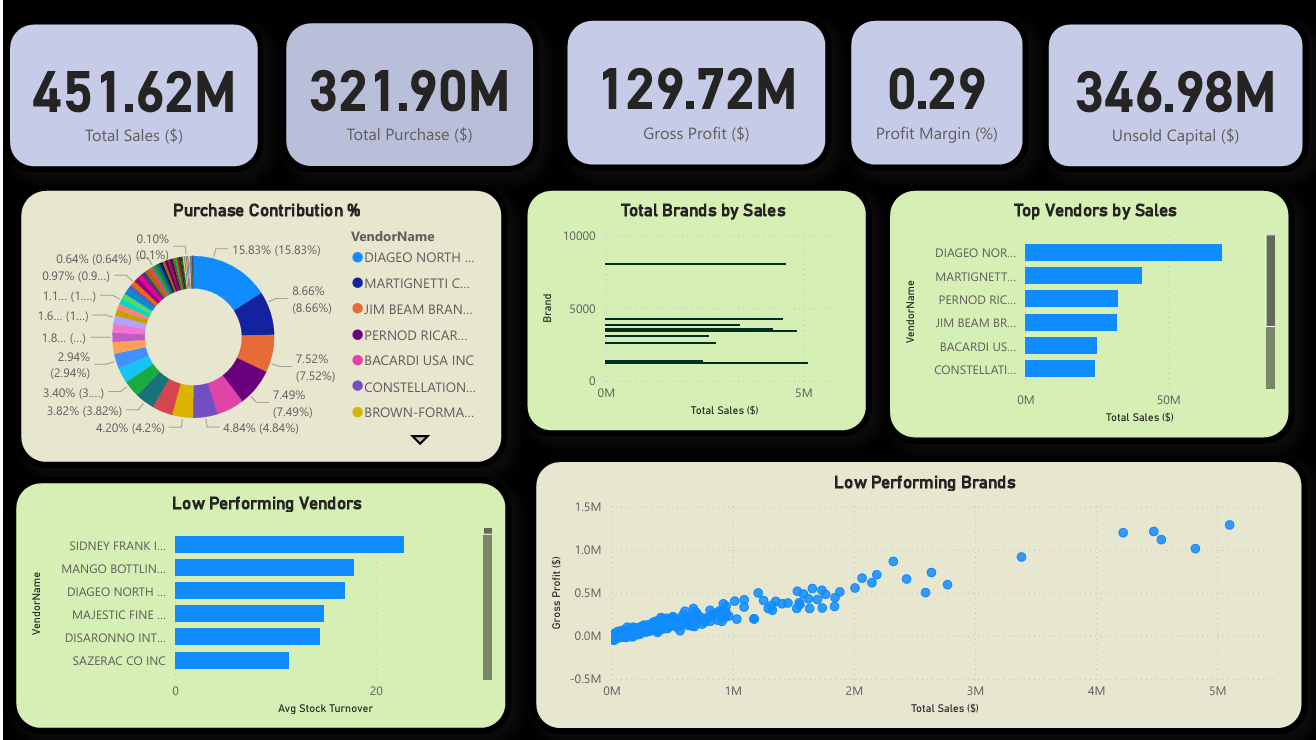

Layout of this report page (visuals, bound fields, positions):
{"tool":"powerbi","page":{"name":"Page 1","canvas":[1280,720],"ordinal":0},"visuals":[{"type":"card","fields":{"Values":["vendor_sales_summary.Gross Profit ($)"]},"box":[546.7,13.9,265,153.4],"z":0},{"type":"card","fields":{"Values":["vendor_sales_summary.Total Purchase ($)"]},"box":[270.6,15.3,253.8,152],"z":1},{"type":"card","fields":{"Values":["vendor_sales_summary.Profit Margin (%)"]},"box":[825.6,13.9,179.9,153.4],"z":2},{"type":"card","fields":{"Values":["vendor_sales_summary.Total Sales ($)"]},"box":[0,16.7,255.2,150.6],"z":3},{"type":"card","fields":{"Values":["vendor_sales_summary.Unsold Capital ($)"]},"box":[1019.5,16.7,260.8,150.6],"z":4},{"type":"donutChart","title":"Purchase Contribution %","fields":{"Category":["vendor_sales_summary.VendorName"],"Y":["vendor_sales_summary.Purchase Contribution %"]},"box":[11.2,179.9,482.5,277.5],"z":5},{"type":"clusteredBarChart","title":"Top Vendors by Sales","fields":{"Category":["vendor_sales_summary.VendorName"],"Y":["vendor_sales_summary.Total Sales ($)"]},"box":[863.3,179.9,403.1,253.8],"z":6},{"type":"clusteredBarChart","title":"Low Performing Vendors","fields":{"Category":["vendor_sales_summary.VendorName"],"Y":["vendor_sales_summary.Avg Stock Turnover"]},"box":[5.6,467.2,492.3,252.4],"z":8},{"type":"clusteredBarChart","title":"Total Brands by Sales","fields":{"Category":["vendor_sales_summary.Brand"],"Y":["vendor_sales_summary.Total Sales ($)"]},"box":[507.7,179.9,344.5,246.9],"z":9},{"type":"scatterChart","title":"Low Performing Brands","fields":{"X":["vendor_sales_summary.Total Sales ($)"],"Y":["vendor_sales_summary.Gross Profit ($)"],"Category":["vendor_sales_summary.Brand"]},"box":[516,446.3,762.9,273.4],"z":10}]}

Visuals, with their boxes in screenshot pixels (x1, y1, x2, y2), scaled from the page's 1280x720 canvas onto the 1316x740 screenshot:
card - vendor_sales_summary.Gross Profit ($): bbox(562, 14, 835, 172)
card - vendor_sales_summary.Total Purchase ($): bbox(278, 16, 539, 172)
card - vendor_sales_summary.Profit Margin (%): bbox(849, 14, 1034, 172)
card - vendor_sales_summary.Total Sales ($): bbox(0, 17, 262, 172)
card - vendor_sales_summary.Unsold Capital ($): bbox(1048, 17, 1315, 172)
"Purchase Contribution %" donutChart: bbox(12, 185, 508, 470)
"Top Vendors by Sales" clusteredBarChart: bbox(888, 185, 1302, 446)
"Low Performing Vendors" clusteredBarChart: bbox(6, 480, 512, 739)
"Total Brands by Sales" clusteredBarChart: bbox(522, 185, 876, 439)
"Low Performing Brands" scatterChart: bbox(531, 459, 1315, 739)
